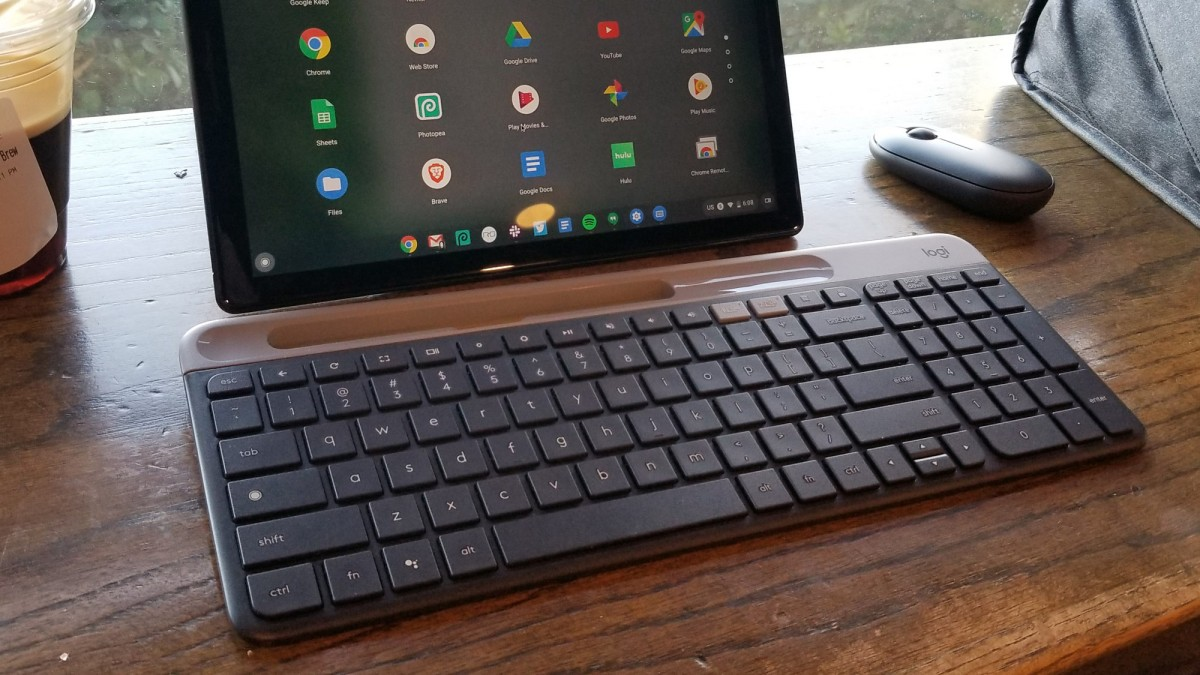keyboard: (155, 232, 1162, 656)
